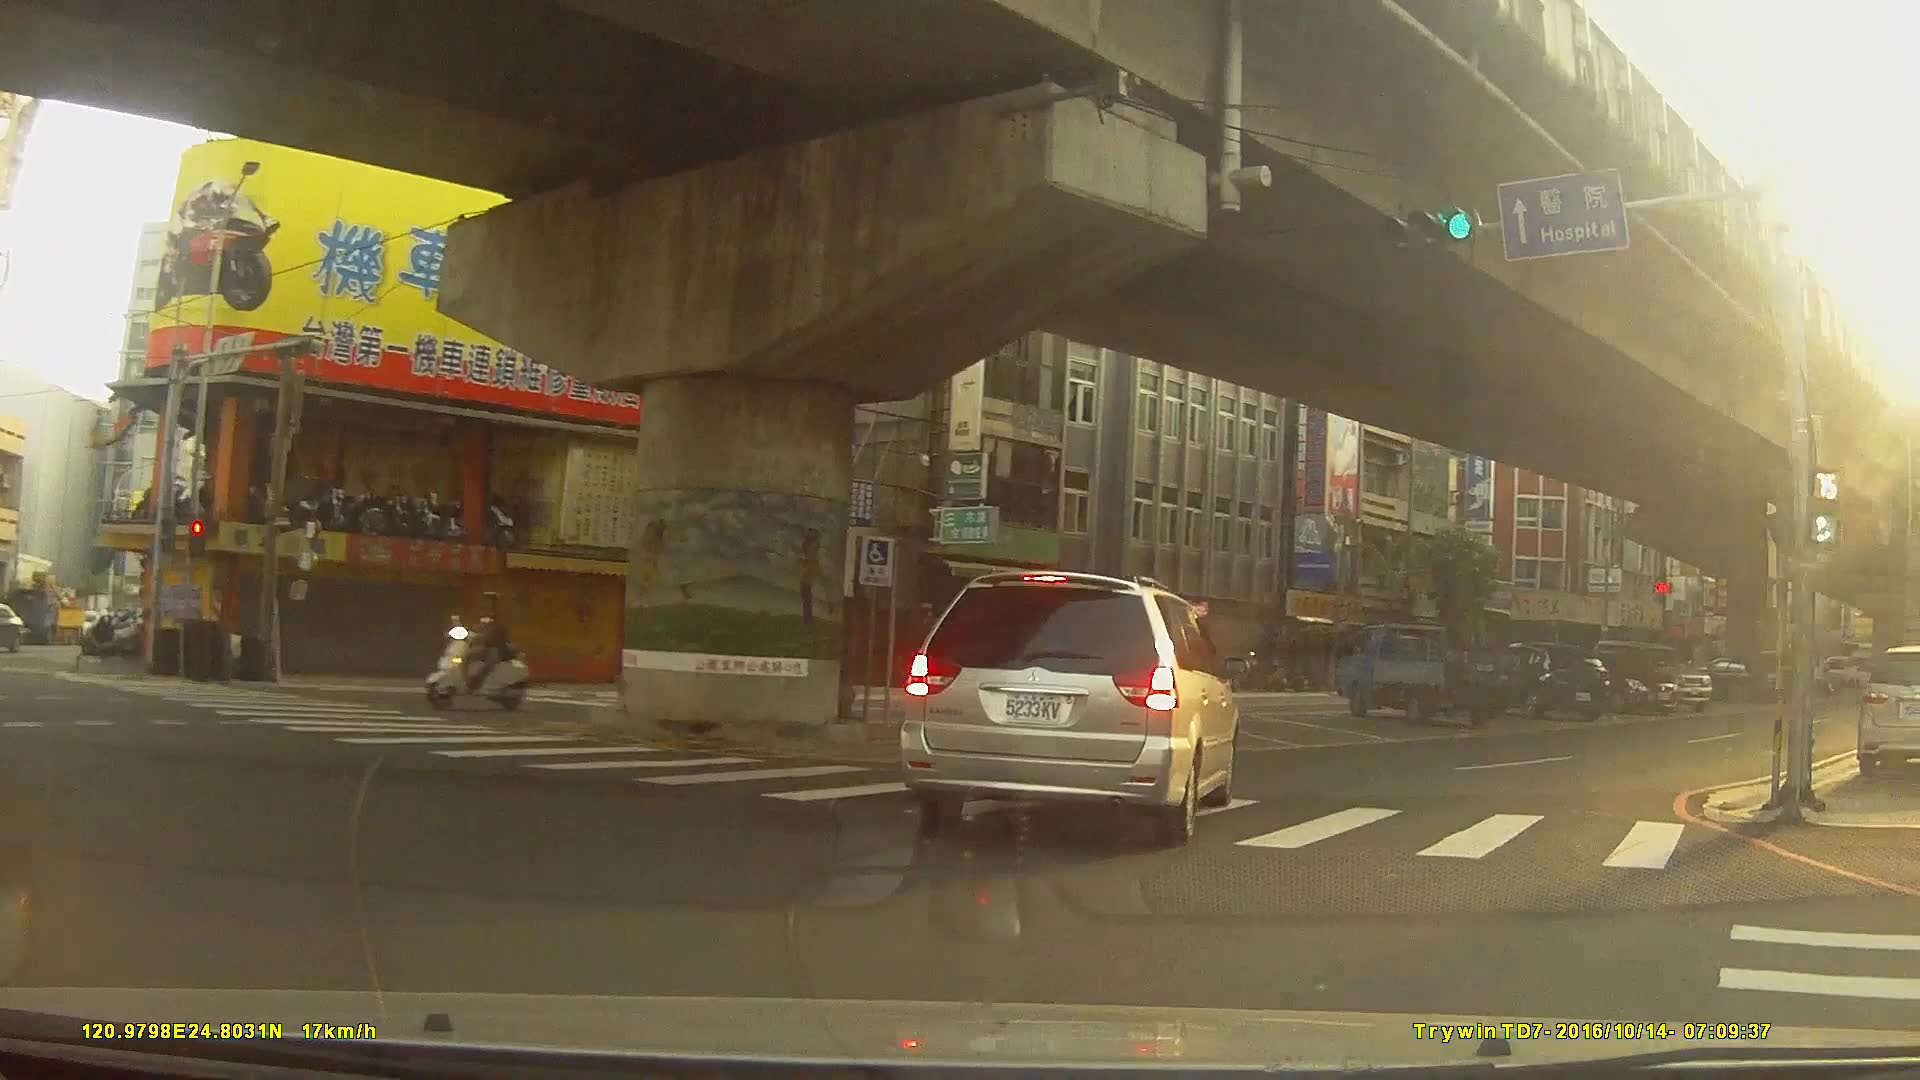rider: (431, 586, 536, 707)
vehicle: (895, 564, 1240, 844), (1329, 621, 1521, 727), (1477, 637, 1611, 719), (1855, 640, 1920, 774), (1563, 648, 1681, 714), (1687, 655, 1764, 696), (0, 597, 25, 654)
